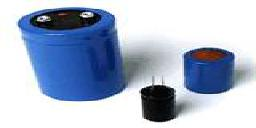Electrolytic Capacitor: (15, 6, 129, 101), (182, 45, 237, 97), (139, 73, 177, 123)
